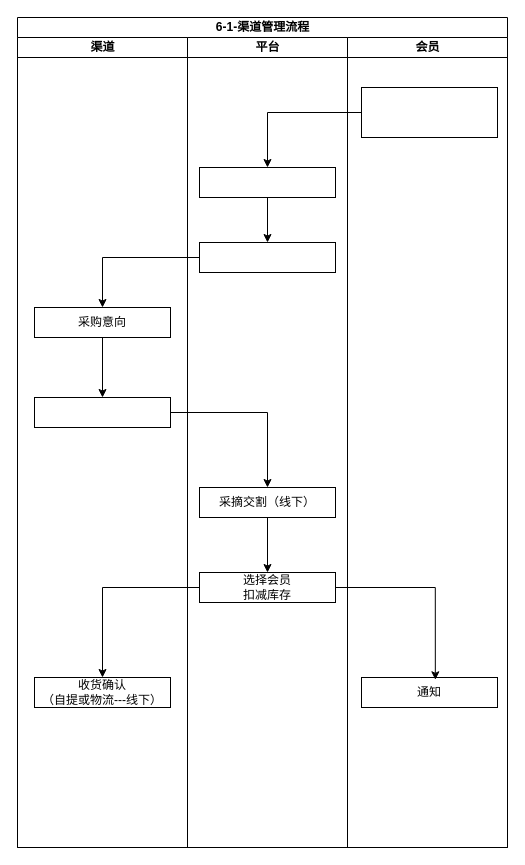
The diagram is 525 pixels wide and 865 high, and some of its shapes have lost their labels. Here are the shapes that lost their labels. From the top down, the centre of each, then its label:
At [429,112]: "设置农产品的代销方式 以及可销售数量 设定销售价格范围".
At [267,182]: "汇总".
At [267,257]: "展示产品及库存".
At [102,412]: "议价下单".
